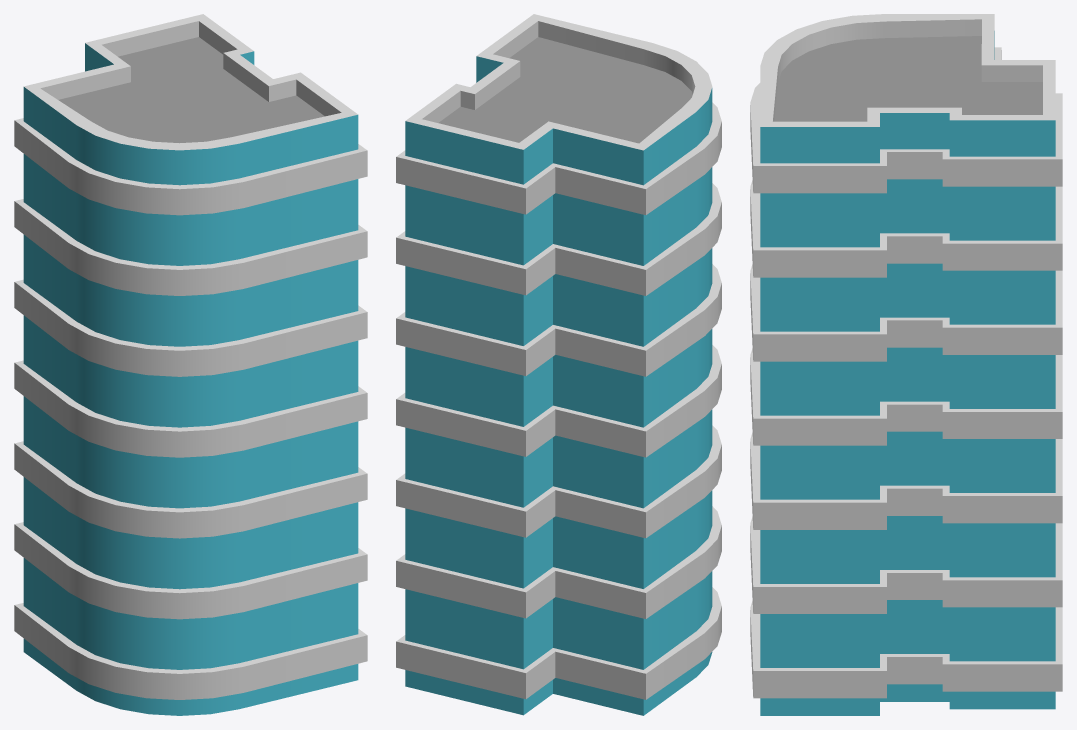
The model's file is multi_stories3.fbx.
3 renders of one model, left to right at view 1: azimuth 30°, elevation 25°; view 2: azimuth 150°, elevation 25°; view 3: azimuth 270°, elevation 25°, orthographic. The views are drawn at different scales.
Parts seen in each view (by area): view 1: Plane.005; view 2: Plane.005; view 3: Plane.005.
Boxes of the visible parts, x1,y1,x2,y2 form: Plane.005: [14, 14, 367, 715]; Plane.005: [396, 14, 721, 715]; Plane.005: [750, 14, 1062, 715].
Size of what is drawn, in the model's own units: 23.3 by 53.3 by 25.61.
